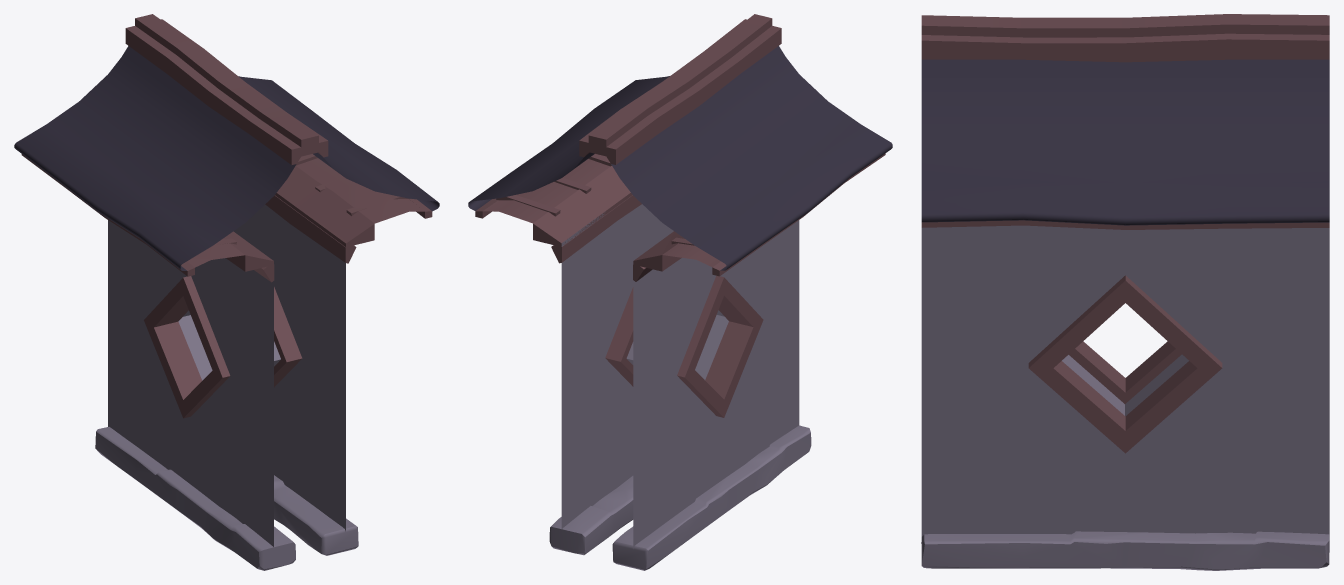
Rendered from wall_fence_window.fbx.
The picture shows the model from 3 angles, left to right: view 1: azimuth 30°, elevation 25°; view 2: azimuth 150°, elevation 25°; view 3: azimuth 270°, elevation 25°; orthographic projection. The views are drawn at different scales.
Parts seen in each view (by area): view 1: wall_fence_window; view 2: wall_fence_window; view 3: wall_fence_window.
Part boxes in pixels (bbox=[...]): wall_fence_window: bbox=[14, 14, 439, 570]; wall_fence_window: bbox=[468, 14, 892, 570]; wall_fence_window: bbox=[921, 14, 1329, 570].
Bounding box in the file's own units: 360 × 565 × 400.
